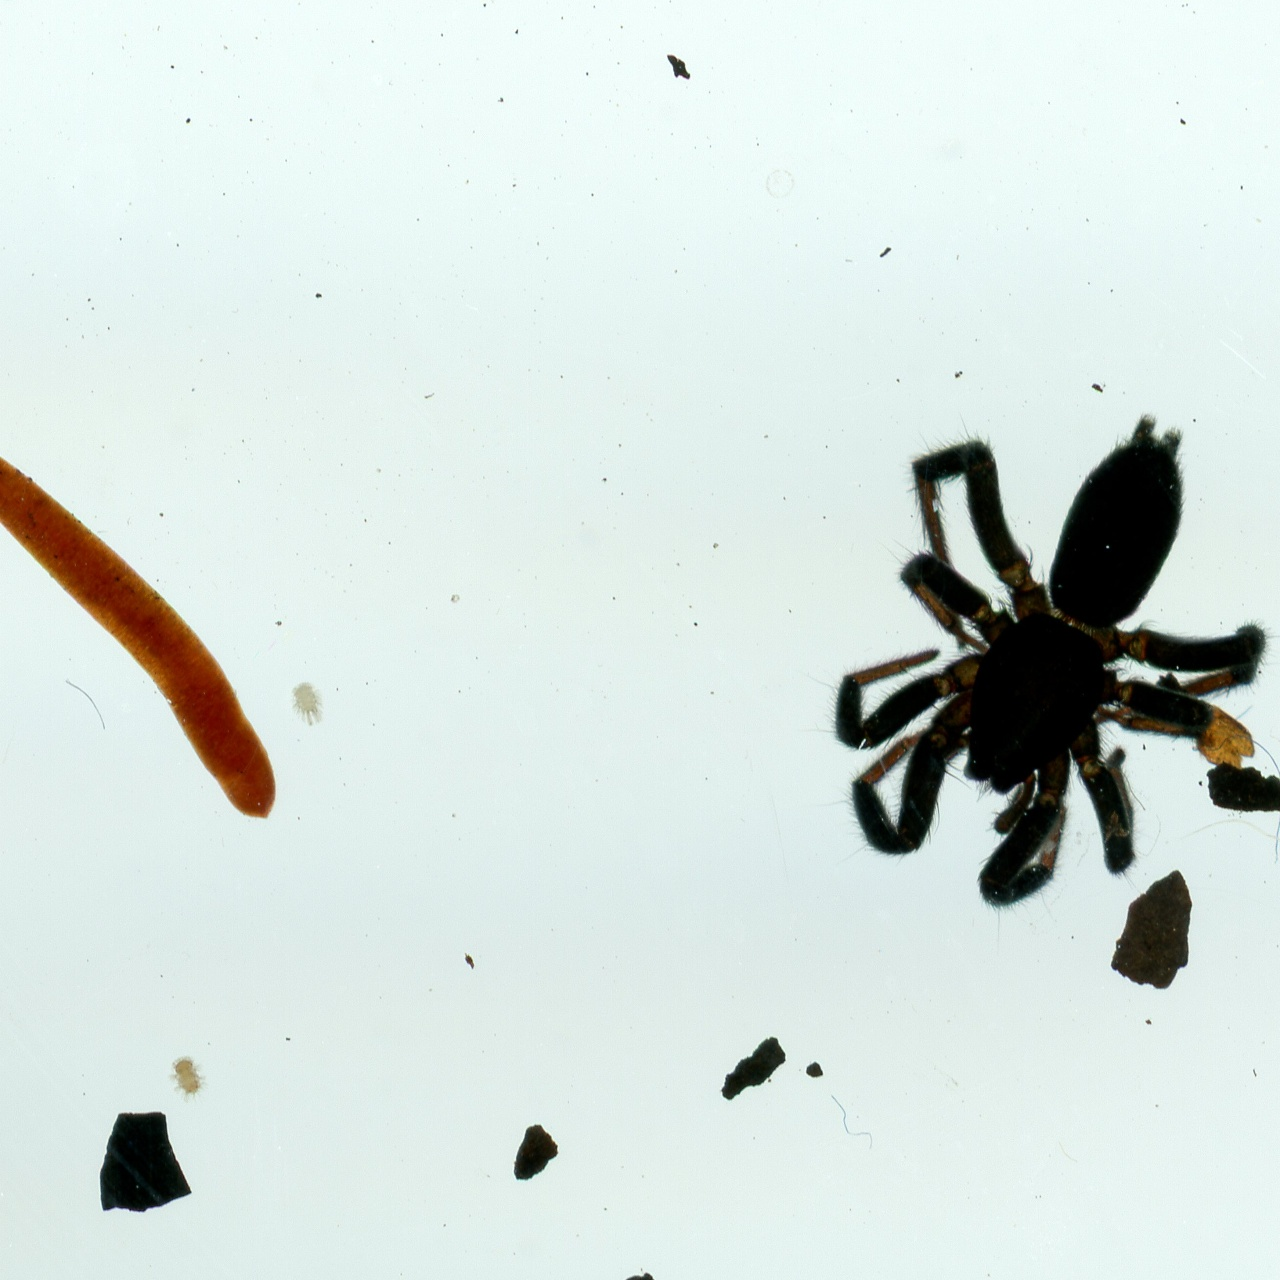arthropod: (788, 396, 1280, 964), (162, 1051, 212, 1104), (288, 680, 328, 728)
